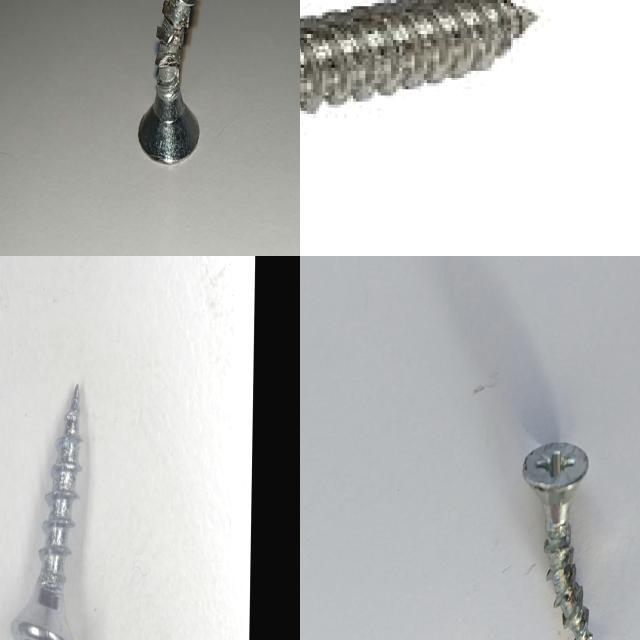Screw: (300, 0, 541, 117), (11, 384, 81, 640), (523, 442, 593, 640), (138, 0, 200, 163)
